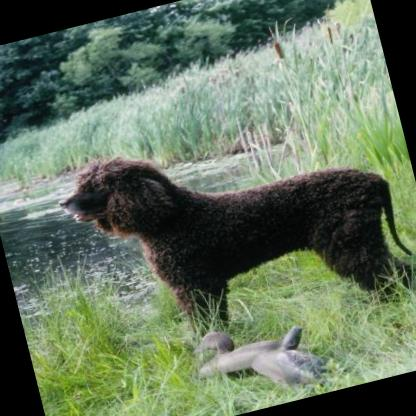Irish_water_spaniel: (49, 93, 416, 373)
